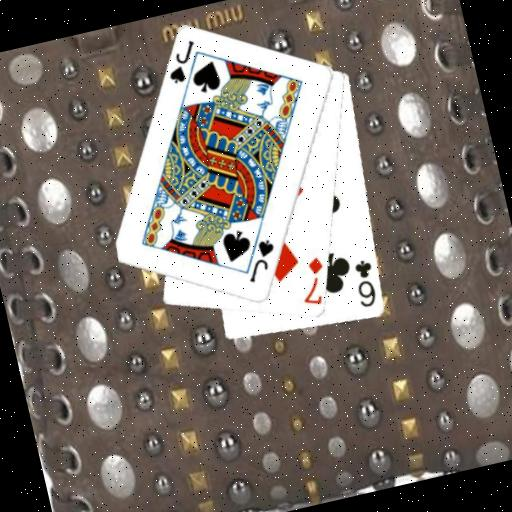6C: (348, 256, 383, 311)
7D: (291, 253, 333, 310)
JS: (238, 235, 283, 286), (159, 37, 204, 88)
